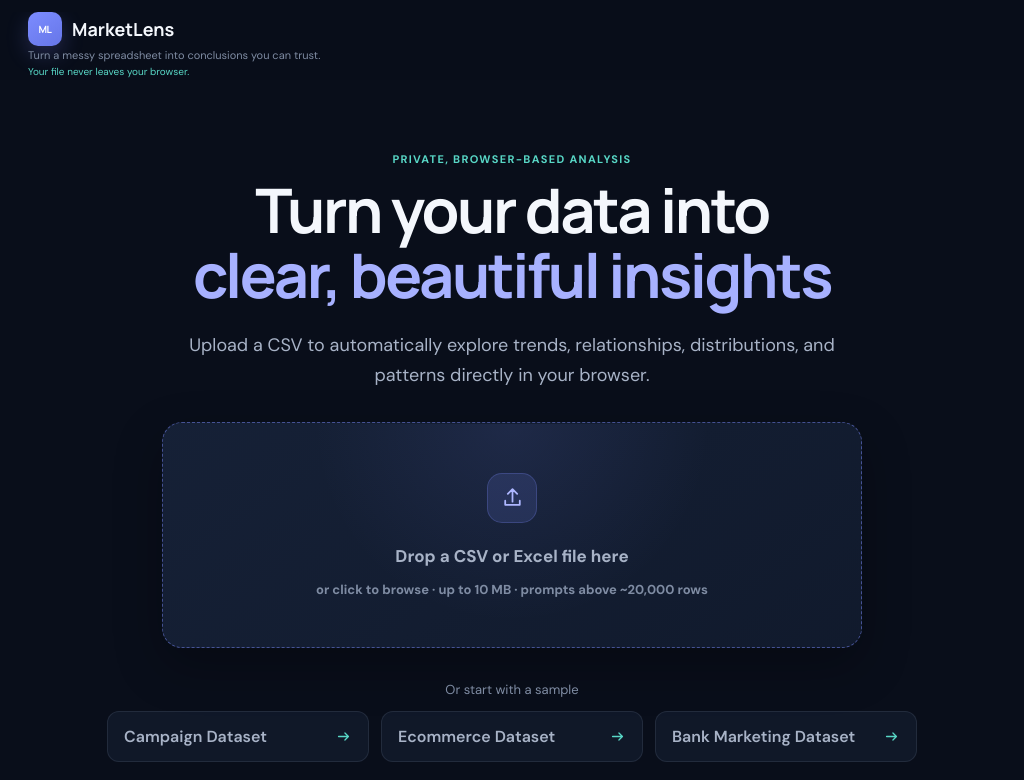
loads a sample and renders the dashboard
The width and height of the screenshot is (1024, 780).
Click the button "Bank Marketing Dataset".
click(786, 737)  # box [655,711,917,762]
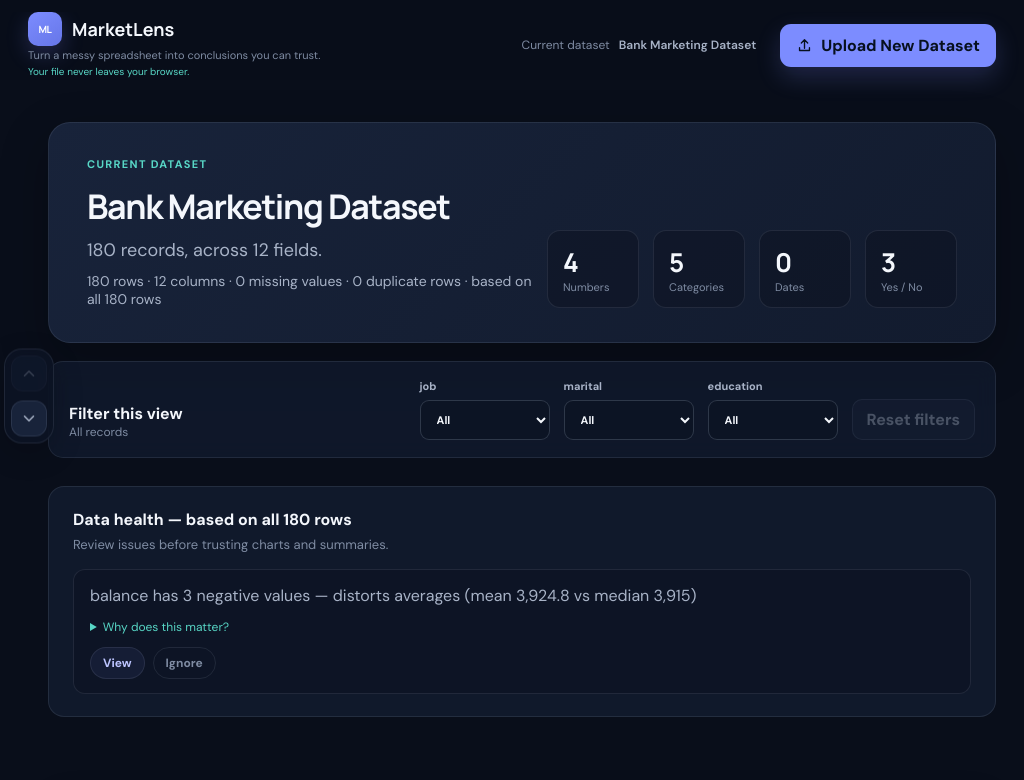
Check: the heading "Bank Marketing Dataset" is shown, box [87,183,450,229]
Check: the text "180 rows" is shown, box [87,272,531,308]
